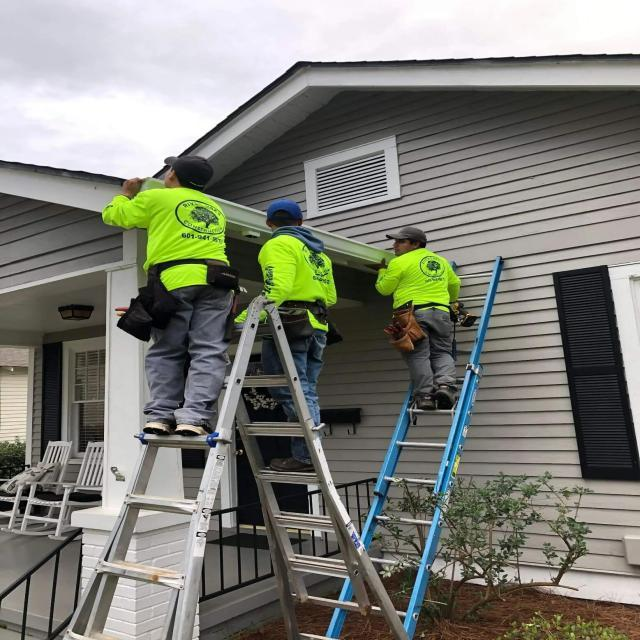boots: (143, 417, 174, 439), (178, 422, 205, 439), (412, 392, 437, 410), (441, 396, 453, 408)
no_gloves: (120, 174, 138, 200)
no_hardhat: (167, 154, 209, 189), (266, 202, 304, 233), (394, 226, 423, 255)
no_vest: (155, 181, 224, 287), (271, 230, 325, 314), (395, 246, 448, 304)
person: (103, 153, 234, 439), (231, 200, 341, 431), (373, 227, 460, 410)
